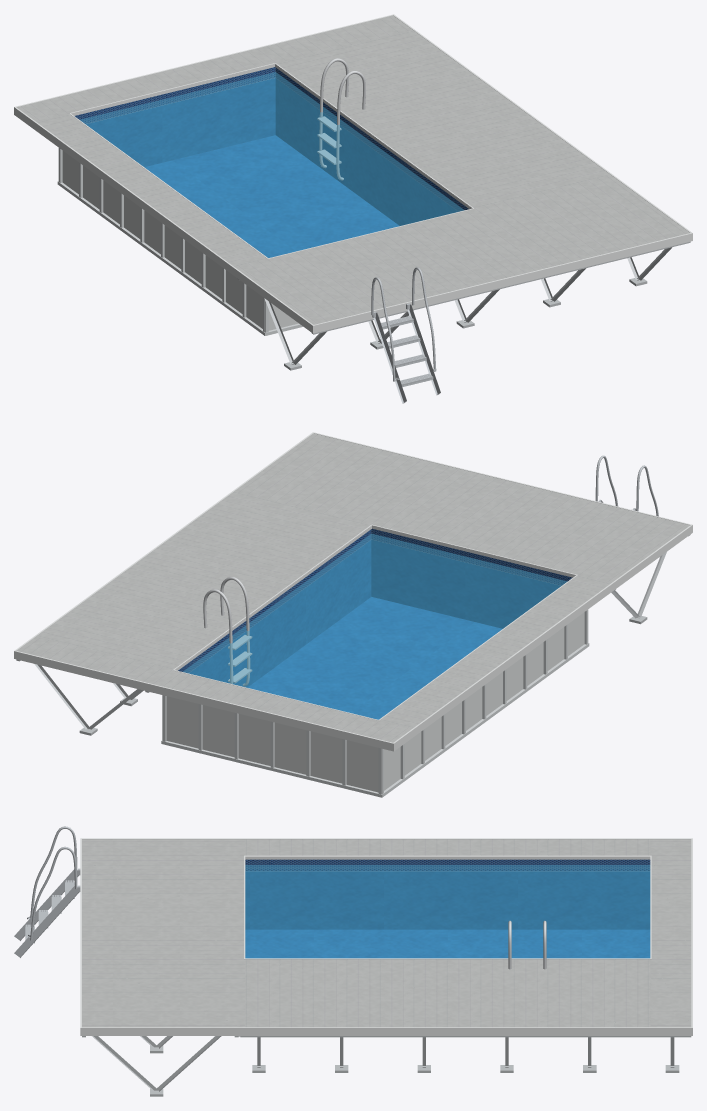
Rendered from kayak-pool-12x20-white-endside-ag-nofence.59470e6ae7.glb.
3 views of the same model, one above another, from view 1: azimuth 30°, elevation 25°; view 2: azimuth 150°, elevation 25°; view 3: azimuth 270°, elevation 25° (orthographic). The views are drawn at different scales.
Visible parts, largest first — view 1: deck, water, liner_wall, liner_floor, fascia, wall, upright, stud, ladder, steel; view 2: deck, water, liner_wall, liner_floor, wall, fascia, upright, stud, steel, ladder; view 3: deck, water, liner_wall, liner_floor, fascia, stud, ladder.
Part boxes in pixels (box(x1,y1,x2,y2)): deck: box(17, 15, 689, 324); water: box(80, 72, 463, 257); liner_wall: box(74, 67, 468, 225); liner_floor: box(145, 135, 399, 257); fascia: box(14, 14, 692, 333); wall: box(62, 151, 298, 330); upright: box(57, 148, 303, 335); stud: box(237, 241, 690, 370); ladder: box(371, 267, 440, 403); steel: box(317, 58, 365, 180); deck: box(17, 433, 689, 742); water: box(183, 533, 567, 719); liner_wall: box(178, 528, 572, 687); liner_floor: box(247, 597, 501, 719); wall: box(166, 612, 584, 792); fascia: box(14, 432, 692, 751); upright: box(161, 609, 589, 797); stud: box(16, 534, 690, 735); steel: box(203, 577, 252, 686); ladder: box(595, 455, 659, 557); deck: box(82, 839, 691, 1027); water: box(245, 865, 650, 958); liner_wall: box(245, 859, 650, 929); liner_floor: box(245, 929, 650, 958); fascia: box(80, 838, 692, 1035); stud: box(82, 1036, 691, 1096); ladder: box(14, 826, 80, 957).
Size of the model in its own units: 6.71 by 1.9 by 10.13.
Materials: 10 (3 with a texture image).
